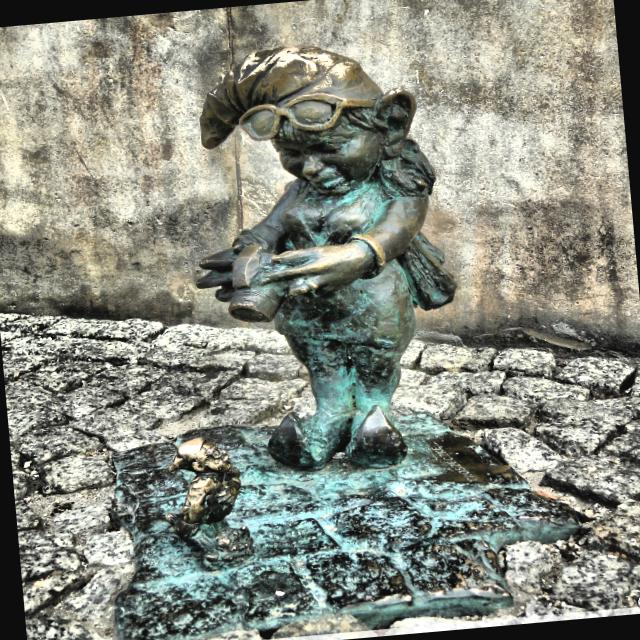Troszka i Adoratorek: (112, 47, 578, 640)
